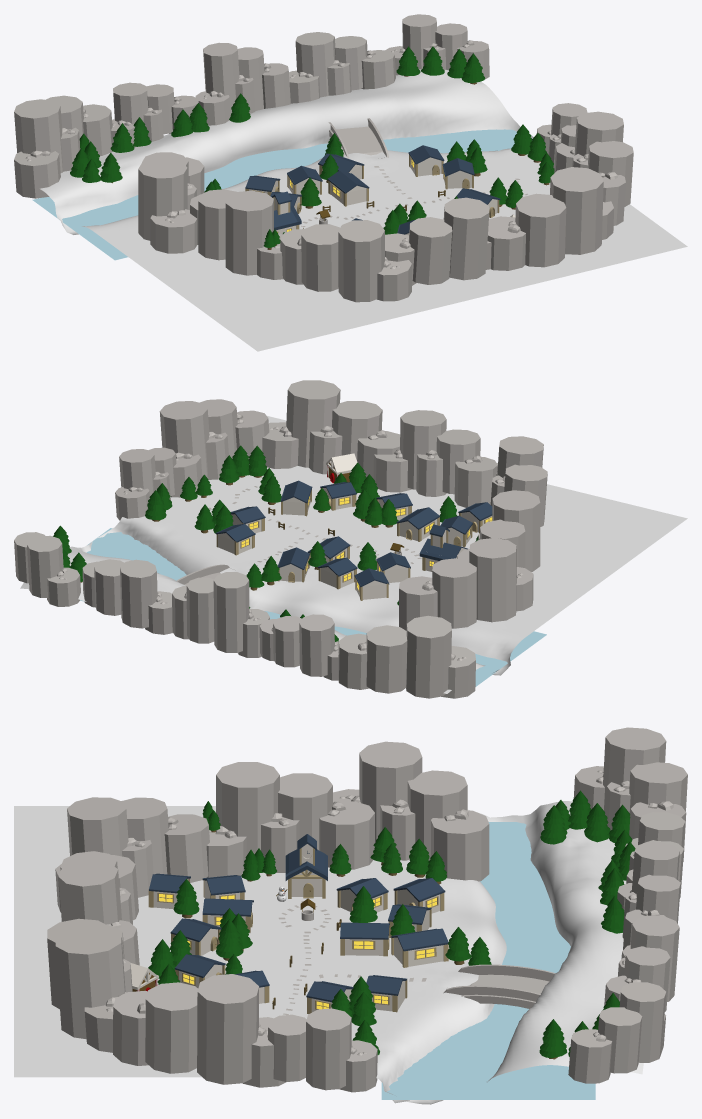
The model's file is villageFinal.glb.
3 renders of one model, top to bottom at view 1: azimuth 30°, elevation 25°; view 2: azimuth 150°, elevation 25°; view 3: azimuth 270°, elevation 25°, orthographic. The views are drawn at different scales.
Visible parts, largest first — view 1: Plane, Cylinder.003, Cylinder.001, Cylinder.014, Plane.001, Cylinder.002, Cylinder.004, Cylinder.009, Cylinder.011, Cylinder.012, Cylinder.007, Cylinder.013 (+3 smaller); view 2: Plane, Cylinder.014, Cylinder.003, Cylinder.009, Cylinder.002, Cylinder.007, Cylinder.012, Cylinder.011, Cylinder.013, Cylinder.010, Cylinder.004, Cylinder.008 (+6 smaller); view 3: Plane, Plane.001, Cylinder.007, Cylinder.004, Cylinder.009, Cylinder.001, Cylinder.003, Cylinder.014, Cylinder.008, Cylinder.010, Cylinder.002, Cylinder.012 (+27 smaller).
Boxes of the visible parts, x1=… form: Plane: x1=40, y1=69, x2=687, y2=351; Cylinder.003: x1=487, y1=167, x2=613, y2=270; Cylinder.001: x1=280, y1=220, x2=411, y2=302; Cylinder.014: x1=14, y1=95, x2=112, y2=198; Plane.001: x1=32, y1=129, x2=533, y2=260; Cylinder.002: x1=385, y1=197, x2=491, y2=285; Cylinder.004: x1=190, y1=189, x2=283, y2=279; Cylinder.009: x1=138, y1=152, x2=204, y2=253; Cylinder.011: x1=289, y1=32, x2=395, y2=103; Cylinder.012: x1=195, y1=42, x2=290, y2=125; Cylinder.007: x1=554, y1=111, x2=633, y2=225; Cylinder.013: x1=111, y1=82, x2=198, y2=151; Plane: x1=20, y1=416, x2=687, y2=693; Cylinder.014: x1=338, y1=615, x2=475, y2=698; Cylinder.003: x1=262, y1=380, x2=400, y2=478; Cylinder.009: x1=399, y1=538, x2=533, y2=630; Cylinder.002: x1=373, y1=410, x2=497, y2=507; Cylinder.007: x1=159, y1=399, x2=269, y2=497; Cylinder.012: x1=172, y1=572, x2=269, y2=657; Cylinder.011: x1=82, y1=559, x2=172, y2=634; Cylinder.013: x1=259, y1=614, x2=338, y2=680; Cylinder.010: x1=14, y1=532, x2=80, y2=606; Cylinder.004: x1=457, y1=490, x2=540, y2=571; Cylinder.008: x1=115, y1=447, x2=178, y2=520; Plane: x1=14, y1=801, x2=643, y2=1104; Plane.001: x1=381, y1=822, x2=595, y2=1099; Cylinder.007: x1=113, y1=974, x2=286, y2=1087; Cylinder.004: x1=206, y1=762, x2=374, y2=877; Cylinder.009: x1=333, y1=741, x2=489, y2=881; Cylinder.001: x1=55, y1=797, x2=209, y2=912; Cylinder.003: x1=47, y1=918, x2=132, y2=1052; Cylinder.014: x1=573, y1=727, x2=687, y2=861; Cylinder.008: x1=264, y1=1008, x2=377, y2=1092; Cylinder.010: x1=568, y1=982, x2=666, y2=1083; Cylinder.002: x1=58, y1=851, x2=139, y2=965; Cylinder.012: x1=617, y1=842, x2=680, y2=949.
Bounding box in the file's own units: 312 × 68.65 × 303.
16 materials, 2 textured.
